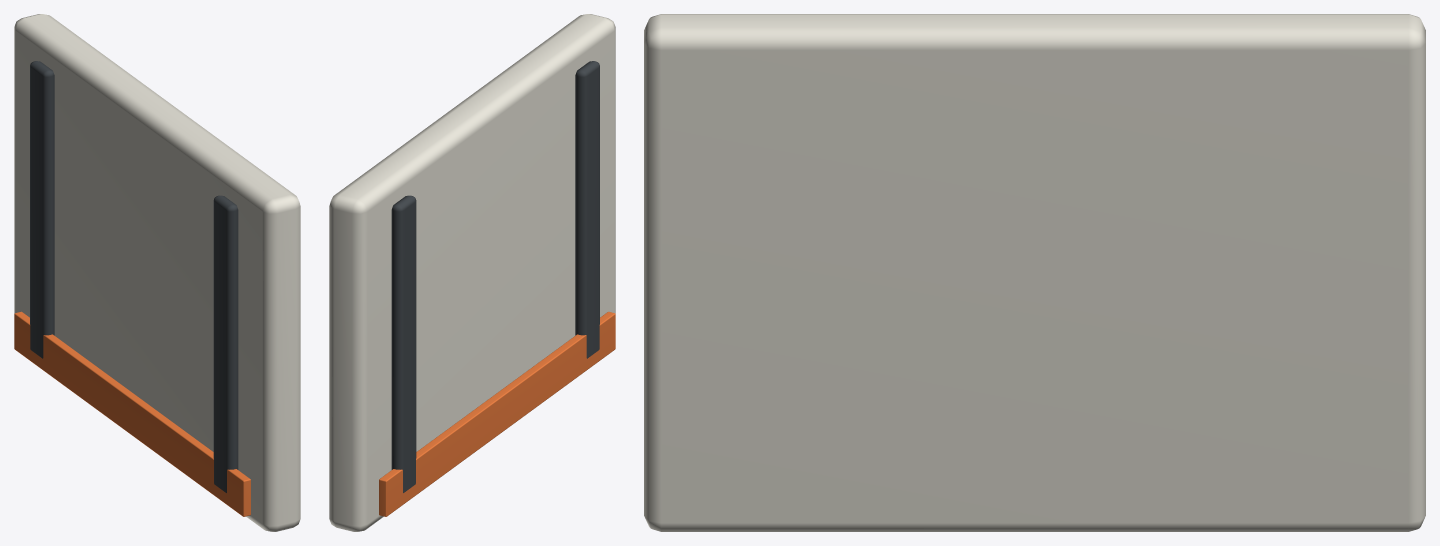
Rendered from SM_FrontierSupplies_Ramp.fbx.
3 renders of one model, left to right at view 1: azimuth 30°, elevation 25°; view 2: azimuth 150°, elevation 25°; view 3: azimuth 270°, elevation 25°, orthographic. The views are drawn at different scales.
Visible parts, largest first — view 1: SM_FrontierSupplies_Ramp.001; view 2: SM_FrontierSupplies_Ramp.001; view 3: SM_FrontierSupplies_Ramp.001.
Boxes of the visible parts, x1,y1,x2,y2 form: SM_FrontierSupplies_Ramp.001: (14,14,300,531); SM_FrontierSupplies_Ramp.001: (329,14,615,531); SM_FrontierSupplies_Ramp.001: (644,14,1425,531).
Bounding box in the file's own units: 960 × 9000 × 6400.
